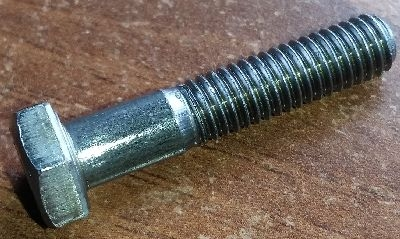screw: (11, 13, 395, 230)
